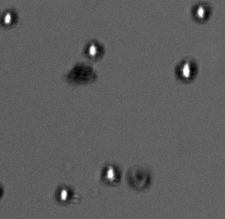Dead Cell: (128, 164, 152, 190), (68, 63, 97, 84)
Living Cell: (175, 56, 199, 83), (85, 37, 104, 60), (100, 163, 120, 184), (54, 183, 73, 204), (191, 2, 210, 22), (1, 8, 18, 29)
